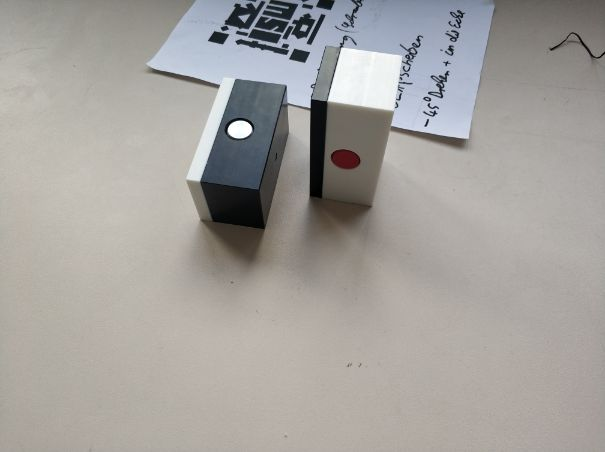black+white+red: (308, 43, 404, 206)
white+black+silver: (181, 75, 290, 229)
